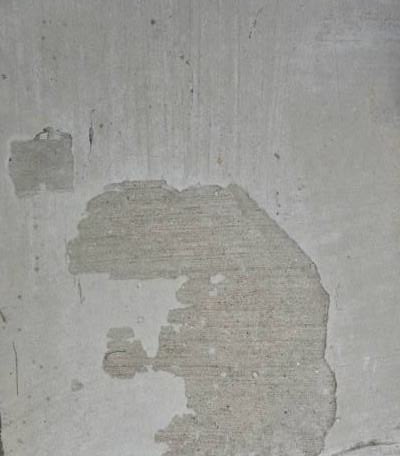Spalling: (64, 178, 338, 456), (7, 127, 75, 199)
